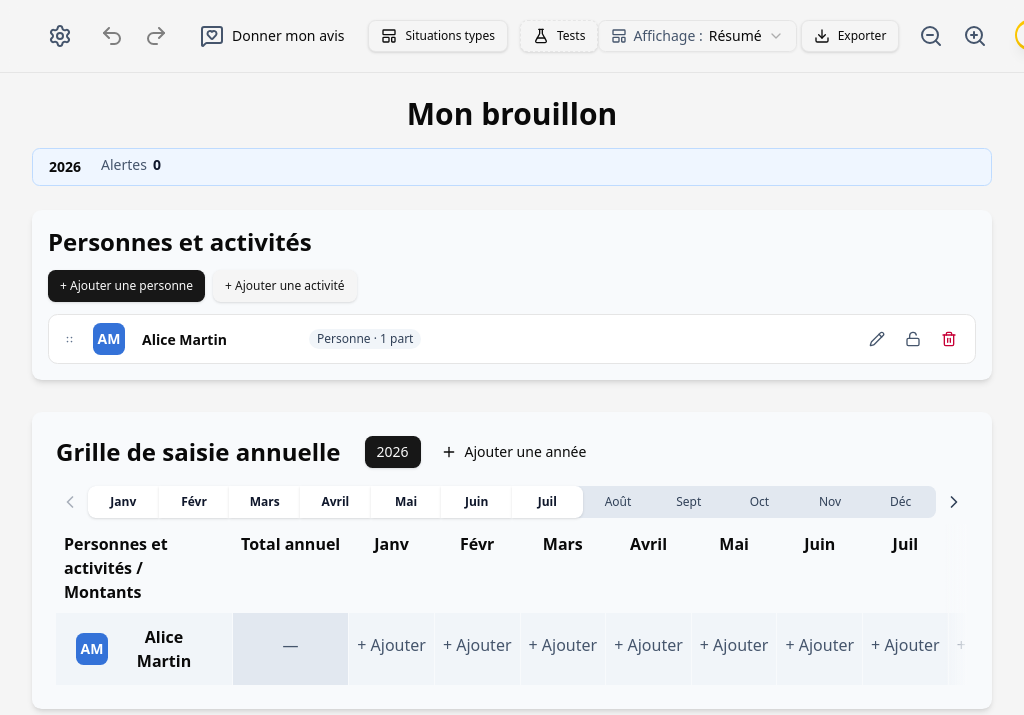
Scenario: App : montages types › depuis la barre d'outils, ouvre la même fenêtre et demande confirmation avant de remplacer une simulation non enregistrée
expect the heading "Mon brouillon" is shown: met, box [407,93,617,134]
Replace the text in the field named "Nom" with "Bob" at [217, 339], box [137,323,297,355]
Then press Enter
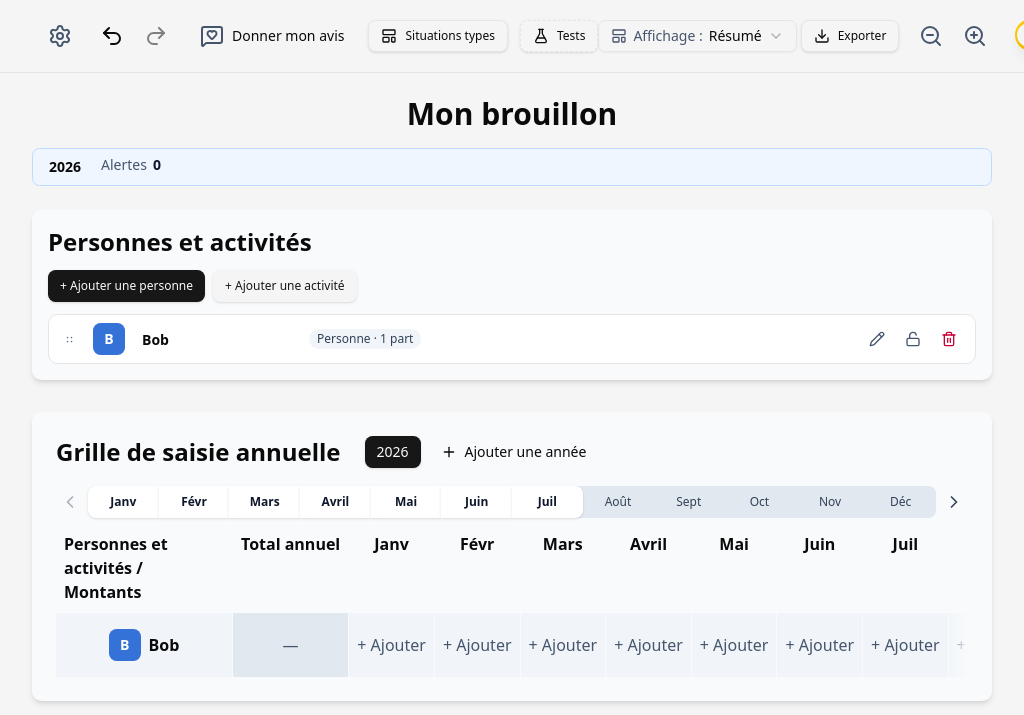
Click the button "Situations types".
click(438, 36)  # box [368,20,508,52]
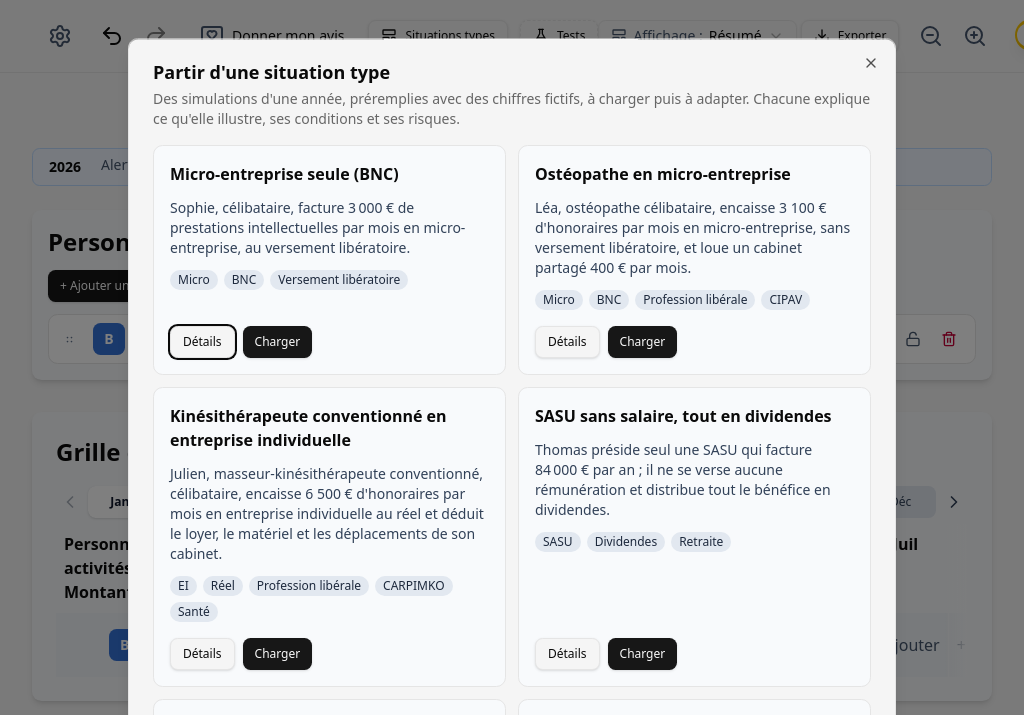
Click the button named "Charger la situation « SASU sans salaire, tout en dividendes »".
click(642, 654)  # box [608,638,677,670]
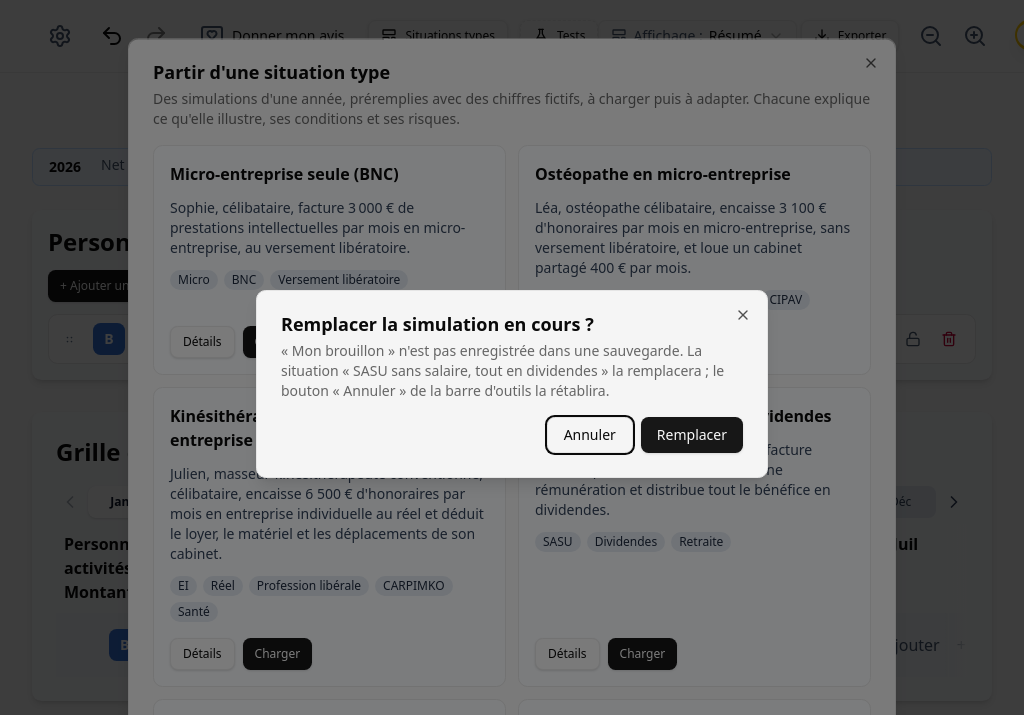
Click the button "Remplacer".
click(692, 435)  # box [641,417,743,453]
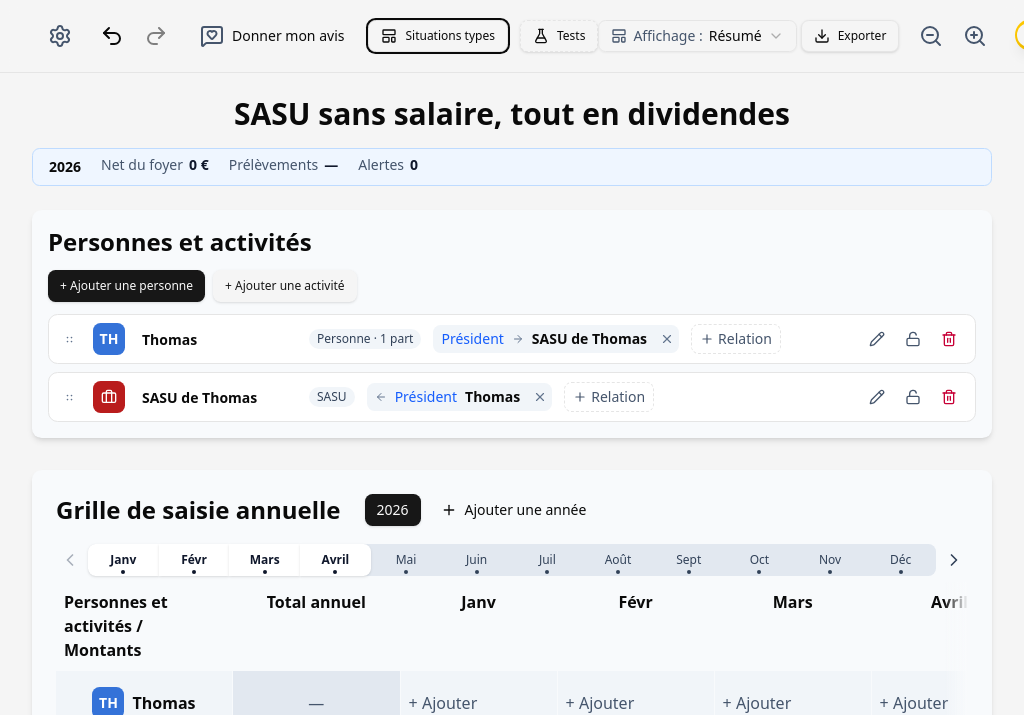
expect the button named "Annuler" is enabled: met, box [92,16,132,56]
expect the heading "SASU sans salaire, tout en dividendes" is shown: met, box [234,93,790,134]
